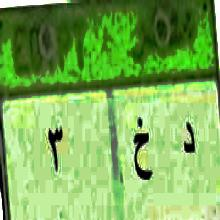3: (46, 120, 64, 173)
daal: (179, 112, 197, 164)
khaa: (131, 111, 154, 191)
